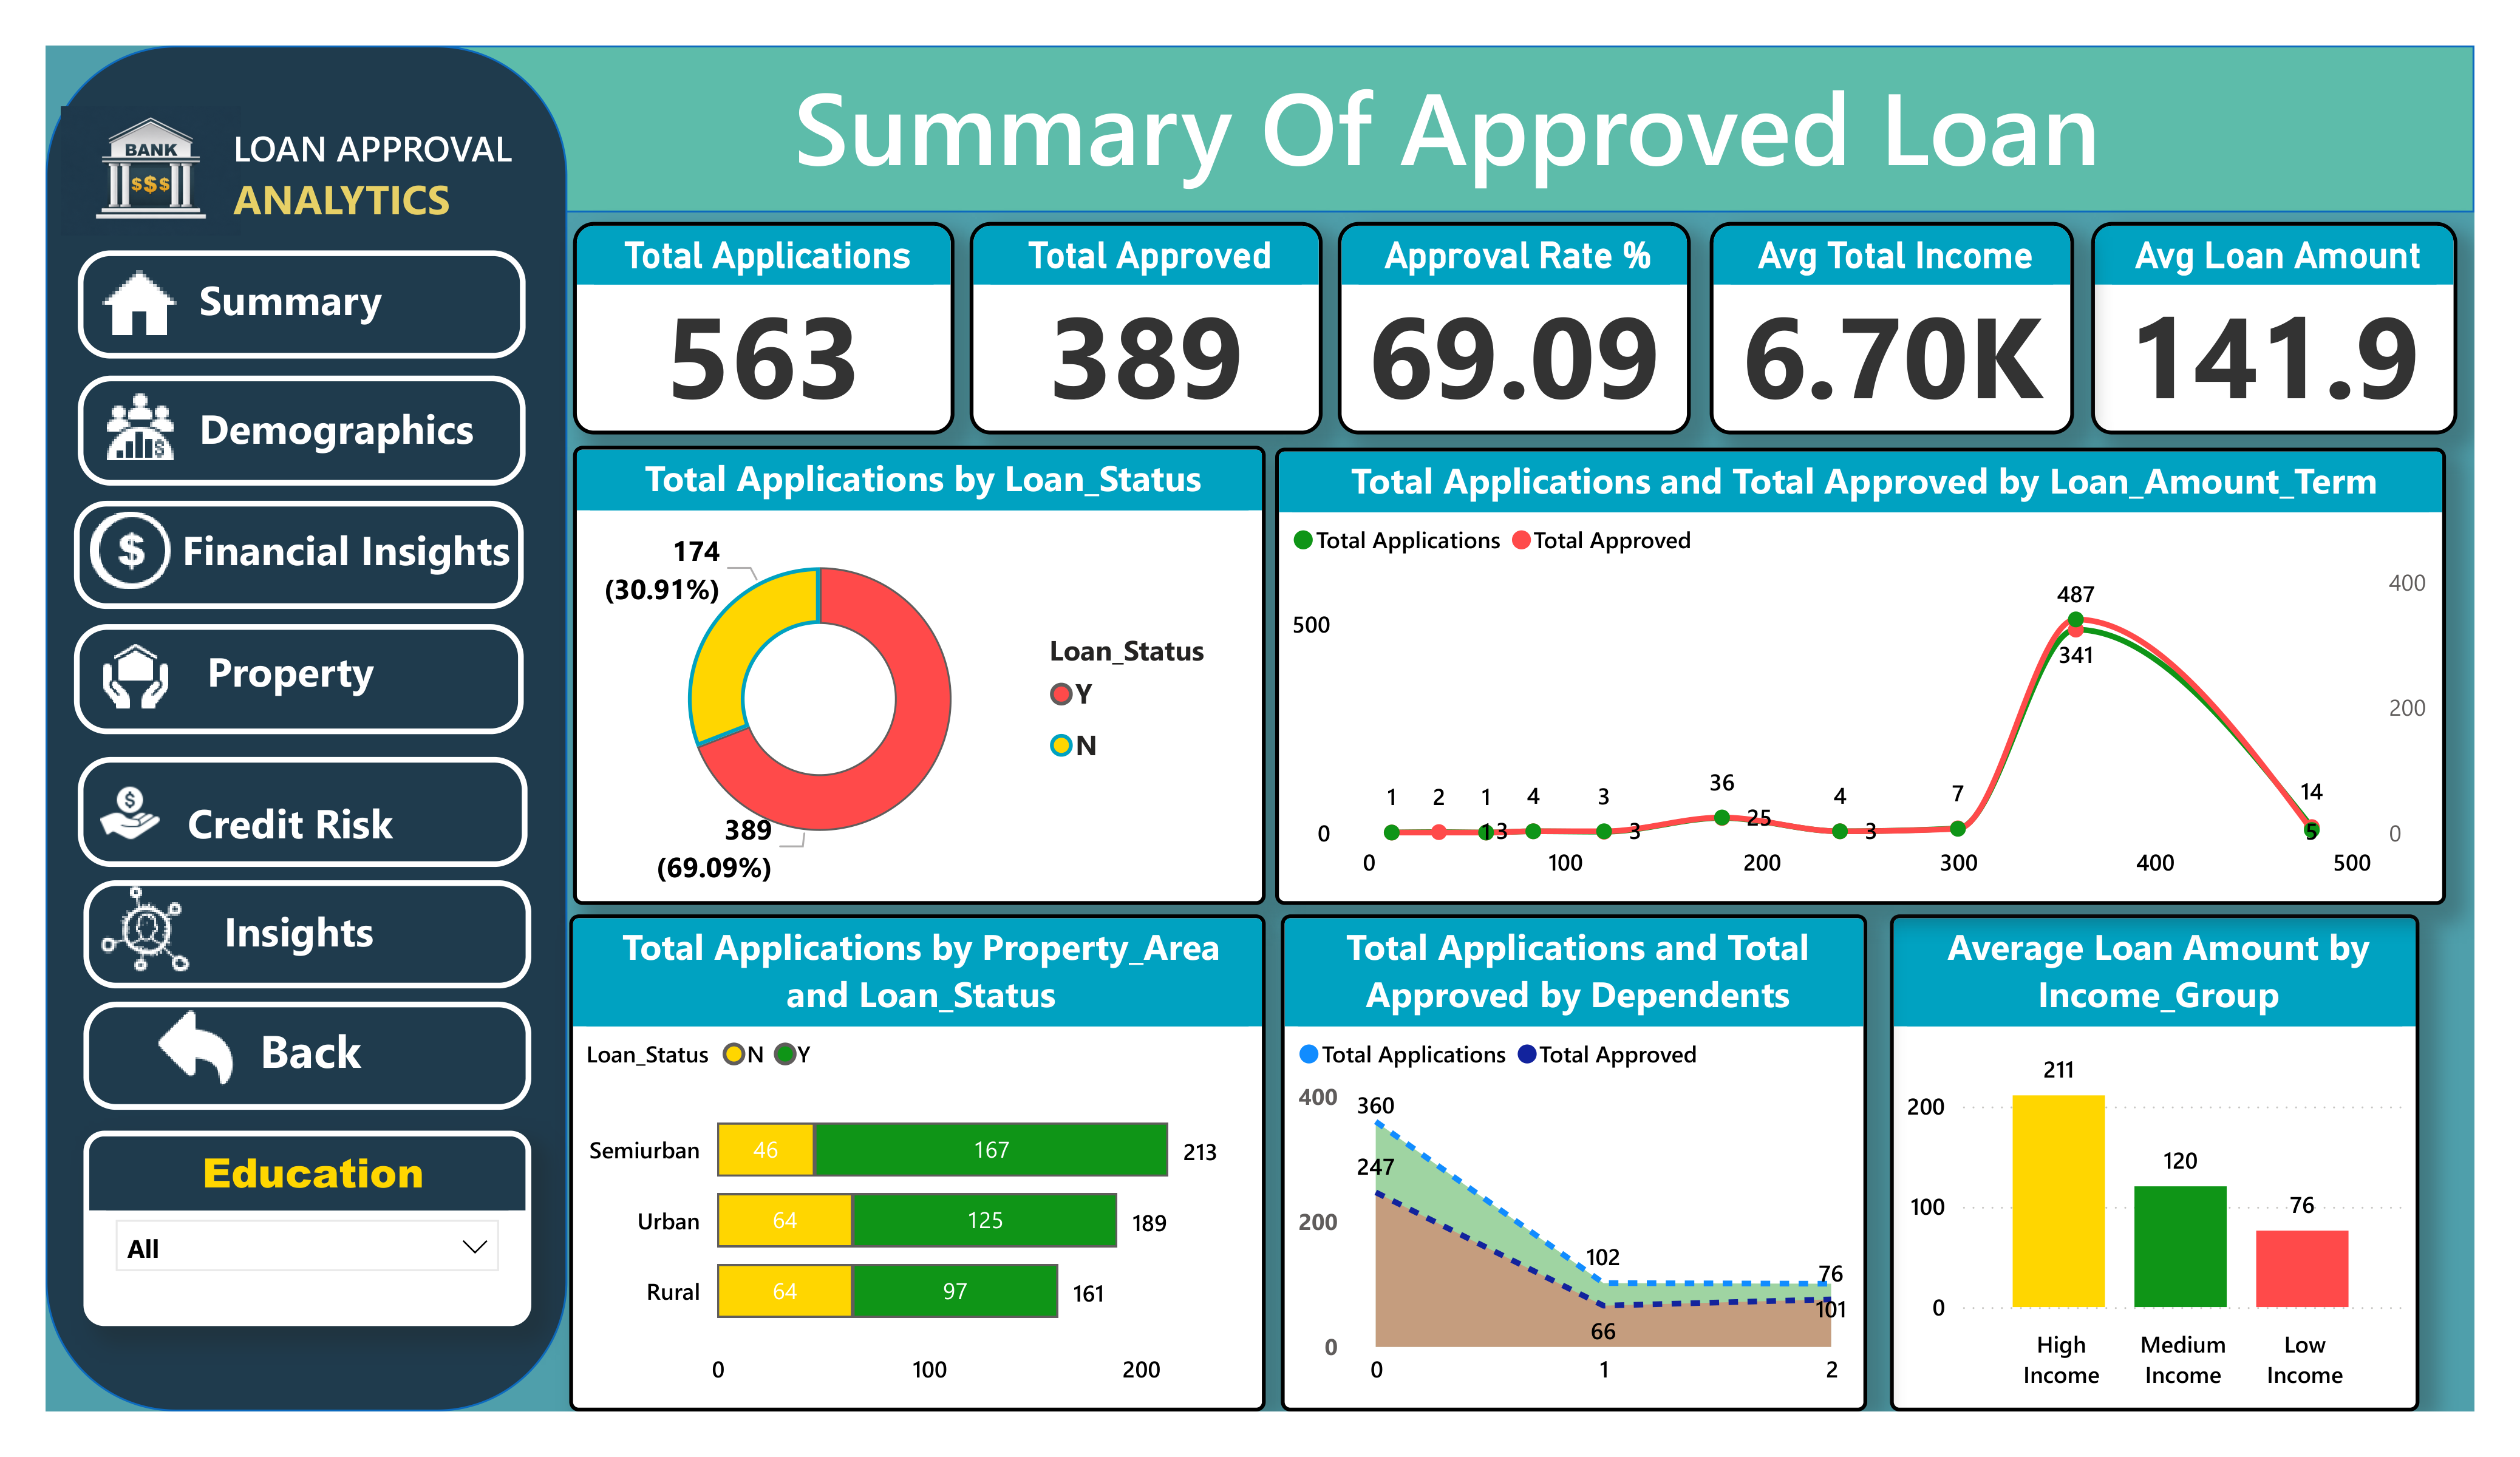

What the dashboard file says about the page in this screenshot:
{"tool":"powerbi","page":{"name":"Summary","canvas":[1280,720],"ordinal":0},"visuals":[{"type":"shape","box":[78.9,0,1201.1,88],"z":0},{"type":"actionButton","box":[15.2,305.4,236.6,57.6],"z":0,"group":"g1"},{"type":"textbox","box":[197.2,0,1082.8,88],"z":1000},{"type":"textbox","box":[80.4,309.9,128.9,48.5],"z":1000,"group":"g1"},{"type":"shape","box":[0,0,274.5,720.4],"z":2000},{"type":"image","box":[3,6.1,104.6,119.8],"z":3000},{"type":"textbox","box":[94,36.4,172.9,63.7],"z":4000},{"type":"actionButton","box":[16.7,107.7,236.6,57.6],"z":5000},{"type":"image","box":[22.7,107.7,53.1,57.6],"z":6000},{"type":"textbox","box":[75.8,113.7,130.4,45.5],"z":7000},{"type":"actionButton","box":[16.7,174.4,236.6,57.6],"z":8000},{"type":"image","box":[19.7,175.9,60.7,50],"z":9000},{"type":"textbox","box":[75.8,182,159.2,44],"z":10000},{"type":"actionButton","box":[15.2,239.6,236.6,57.6],"z":11000},{"type":"image","box":[16.7,236.6,56.1,57.6],"z":12000},{"type":"textbox","box":[66.7,245.7,189.6,48.5],"z":13000},{"type":"card","title":"Total Applications","fields":{"Values":["l_approved.Total Applications"]},"box":[277.5,92.5,201.7,112.2],"z":14000},{"type":"card","title":"Total Approved","fields":{"Values":["l_approved.Total Approved"]},"box":[486.8,92.5,186.5,112.2],"z":15000},{"type":"card","title":"Approval Rate %","fields":{"Values":["l_approved.Approval Rate %"]},"box":[680.9,92.5,186.5,112.2],"z":16000},{"type":"card","title":"Avg Loan Amount","fields":{"Values":["l_approved.Average Loan Amount"]},"box":[1078.3,92.5,192.6,112.2],"z":17000},{"type":"card","title":"Avg Total Income","fields":{"Values":["l_approved.Average Total Income"]},"box":[876.6,92.5,192.6,112.2],"z":18000},{"type":"donutChart","fields":{"Category":["l_approved.Loan_Status"],"Y":["l_approved.Total Applications"]},"box":[277.5,210.8,365.5,242.7],"z":19000},{"type":"barChart","fields":{"Category":["l_approved.Property_Area"],"Y":["l_approved.Total Applications"],"Series":["l_approved.Loan_Status"]},"box":[276,457.6,367,262.4],"z":20000},{"type":"columnChart","fields":{"Category":["l_approved.Income_Group"],"Y":["l_approved.Average Loan Amount"]},"box":[972.2,457.6,278.5,262.2],"z":21000},{"type":"lineChart","fields":{"Y":["l_approved.Total Applications"],"Y2":["l_approved.Total Approved"],"Category":["l_approved.Loan_Amount_Term"]},"box":[648.1,211.7,617.2,241],"z":22000},{"type":"areaChart","fields":{"Category":["l_approved.Dependents"],"Y":["l_approved.Total Applications","l_approved.Total Approved"]},"box":[650.6,458,309.4,262.4],"z":23000},{"type":"slicer","title":"Education","fields":{"Values":["l_approved.Education"]},"box":[19.7,571.8,236.6,103.1],"z":24000},{"type":"actionButton","box":[19.7,439.8,236.6,57.6],"z":25000},{"type":"textbox","box":[89.5,447.4,116.8,40.9],"z":26000},{"type":"image","box":[19.7,435.3,65.2,62.2],"z":27000},{"type":"actionButton","box":[19.7,503.5,236.6,57.6],"z":28000},{"type":"image","box":[47,497.4,63.7,63.7],"z":29000},{"type":"textbox","box":[107.7,508.1,104.6,47],"z":30000},{"type":"actionButton","box":[16.7,374.6,236.6,57.6],"z":30008,"group":"g2"},{"type":"textbox","box":[69.8,389.7,169.9,40.9],"z":30014,"group":"g2"},{"type":"group","id":"g1","title":"Group 1","box":[15.2,305.4,236.6,57.6],"z":31000},{"type":"group","id":"g2","title":"Group 2","box":[16.7,374.6,236.6,57.6],"z":32000},{"type":"image","box":[19.7,383.7,48.5,40.9],"z":33000},{"type":"image","box":[18.2,309.4,57.6,47],"z":34000},{"type":"image","box":[365.5,673.4,57.6,47],"z":34001}]}

Visuals, with their boxes on the page's 1280x720 design canvas (x1, y1, x2, y2). These are canvas units, not pixel positions in the 2520x1457 screenshot, which may show the page scaled, cropped or inside an application window:
shape: Rect(79, 0, 1280, 88)
actionButton: Rect(15, 305, 252, 363)
textbox: Rect(197, 0, 1280, 88)
textbox: Rect(80, 310, 209, 358)
shape: Rect(0, 0, 274, 720)
image: Rect(3, 6, 108, 126)
textbox: Rect(94, 36, 267, 100)
actionButton: Rect(17, 108, 253, 165)
image: Rect(23, 108, 76, 165)
textbox: Rect(76, 114, 206, 159)
actionButton: Rect(17, 174, 253, 232)
image: Rect(20, 176, 80, 226)
textbox: Rect(76, 182, 235, 226)
actionButton: Rect(15, 240, 252, 297)
image: Rect(17, 237, 73, 294)
textbox: Rect(67, 246, 256, 294)
"Total Applications" card: Rect(278, 92, 479, 205)
"Total Approved" card: Rect(487, 92, 673, 205)
"Approval Rate %" card: Rect(681, 92, 867, 205)
"Avg Loan Amount" card: Rect(1078, 92, 1271, 205)
"Avg Total Income" card: Rect(877, 92, 1069, 205)
donutChart - l_approved.Loan_Status x l_approved.Total Applications: Rect(278, 211, 643, 454)
barChart - l_approved.Property_Area x l_approved.Total Applications: Rect(276, 458, 643, 720)
columnChart - l_approved.Income_Group x l_approved.Average Loan Amount: Rect(972, 458, 1251, 720)
lineChart - l_approved.Total Applications x l_approved.Total Approved: Rect(648, 212, 1265, 453)
areaChart - l_approved.Dependents x l_approved.Total Applications: Rect(651, 458, 960, 720)
"Education" slicer: Rect(20, 572, 256, 675)
actionButton: Rect(20, 440, 256, 497)
textbox: Rect(90, 447, 206, 488)
image: Rect(20, 435, 85, 498)
actionButton: Rect(20, 504, 256, 561)
image: Rect(47, 497, 111, 561)
textbox: Rect(108, 508, 212, 555)
actionButton: Rect(17, 375, 253, 432)
textbox: Rect(70, 390, 240, 431)
"Group 1" group: Rect(15, 305, 252, 363)
"Group 2" group: Rect(17, 375, 253, 432)
image: Rect(20, 384, 68, 425)
image: Rect(18, 309, 76, 356)
image: Rect(366, 673, 423, 720)
